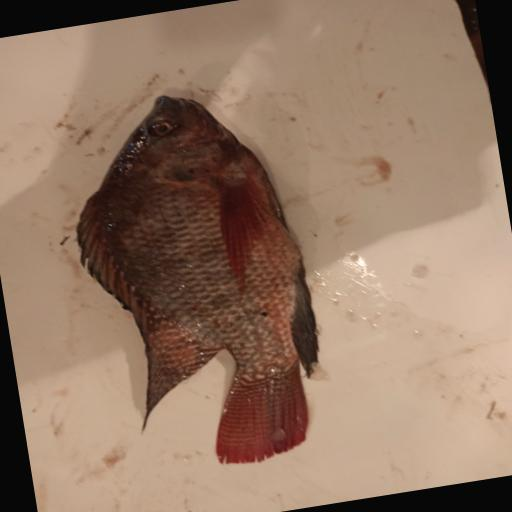Tilapia: (55, 77, 336, 485)
